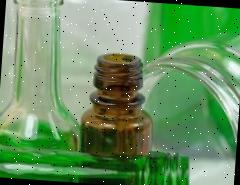glass: (0, 0, 202, 185)
